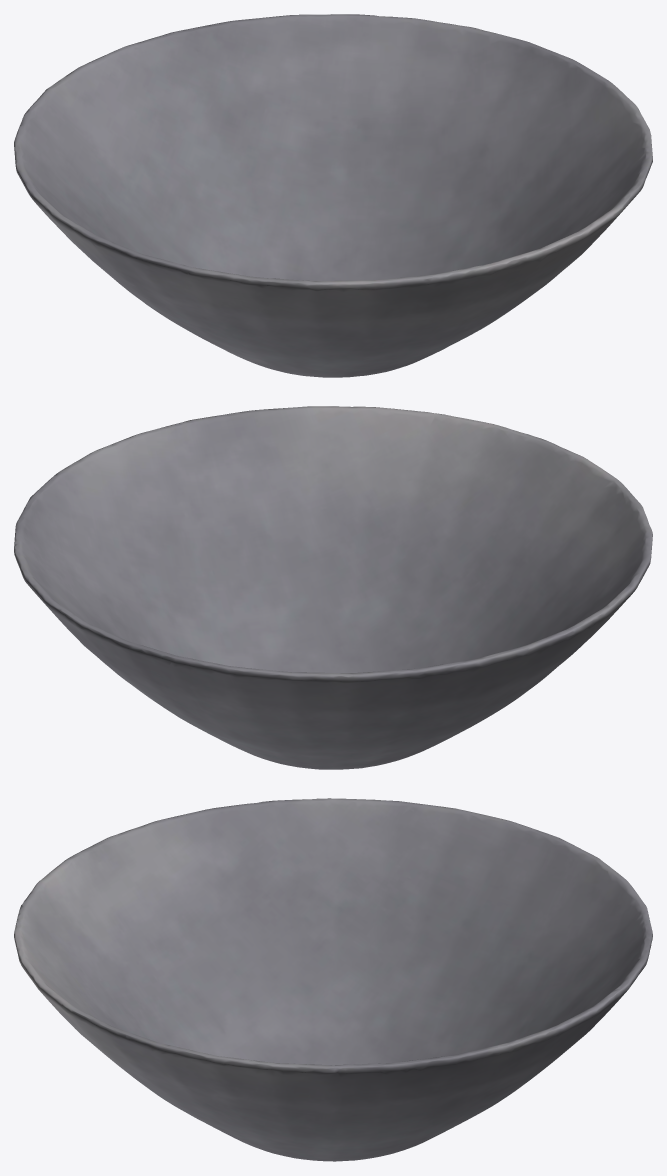
The picture shows the model from 3 angles, top to bottom: view 1: azimuth 30°, elevation 25°; view 2: azimuth 150°, elevation 25°; view 3: azimuth 270°, elevation 25°; orthographic projection.
Parts seen in each view (by area): view 1: world; view 2: world; view 3: world.
Part boxes in pixels (left/top/right/bottom): world: left=14, top=14, right=652, bottom=377; world: left=14, top=406, right=652, bottom=769; world: left=14, top=798, right=652, bottom=1161.
Size of the model in its own units: 1 by 0.3254 by 1.
Materials: 1 (1 with a texture image).
